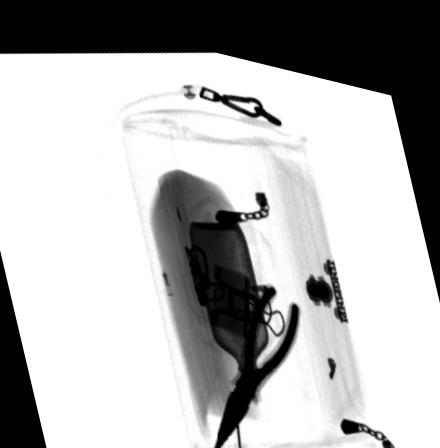Pliers: (212, 268, 301, 444)
